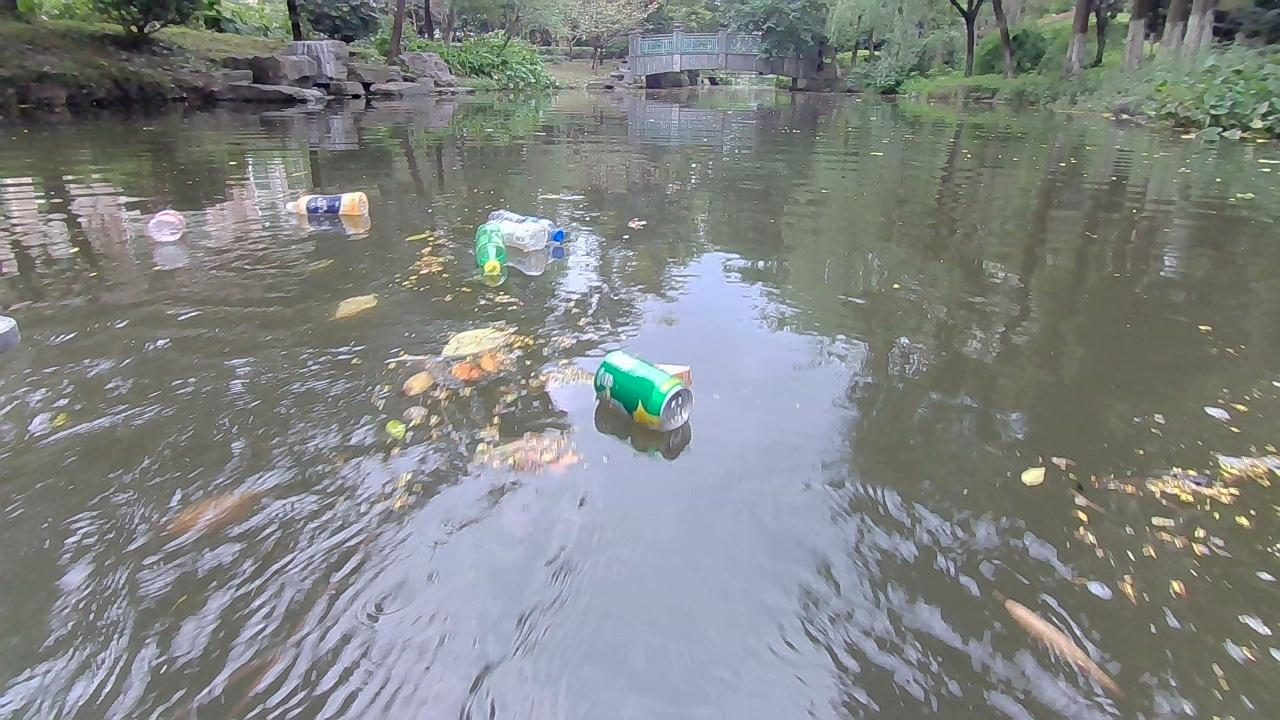Metal: (592, 348, 695, 433)
Plastic: (487, 207, 565, 243), (487, 217, 548, 253), (284, 191, 370, 216), (474, 221, 508, 277), (147, 207, 188, 243)
